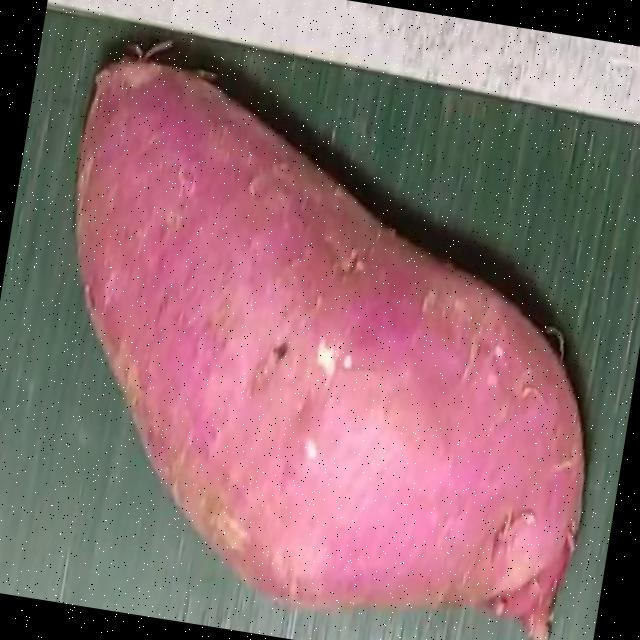Sweet Potato: (71, 55, 583, 640)
